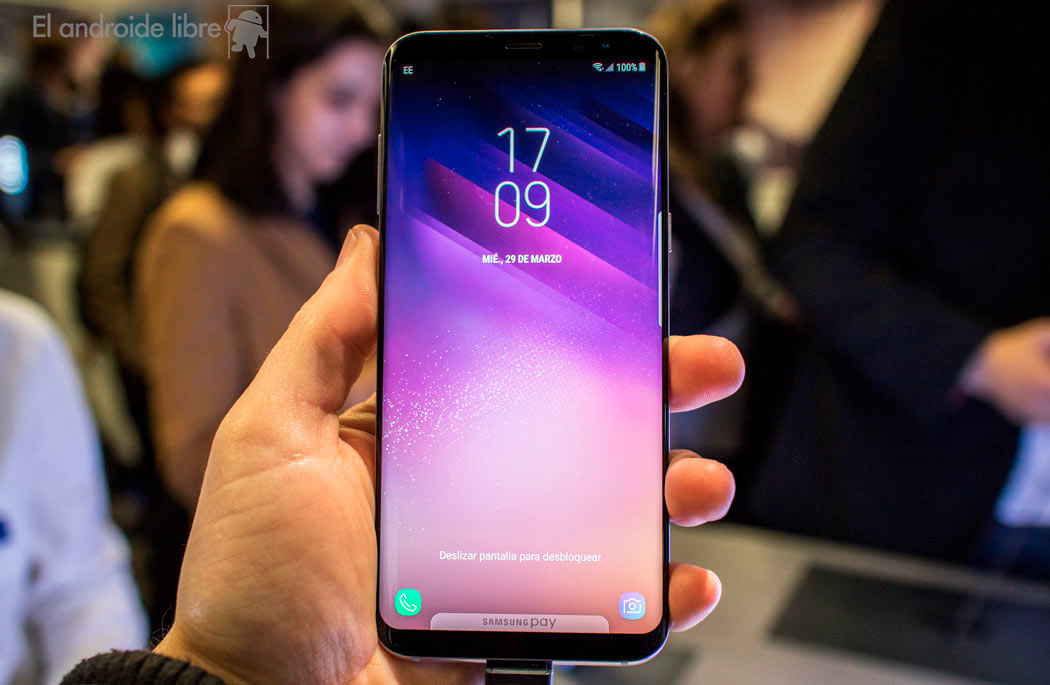smartphone: (374, 27, 673, 665)
